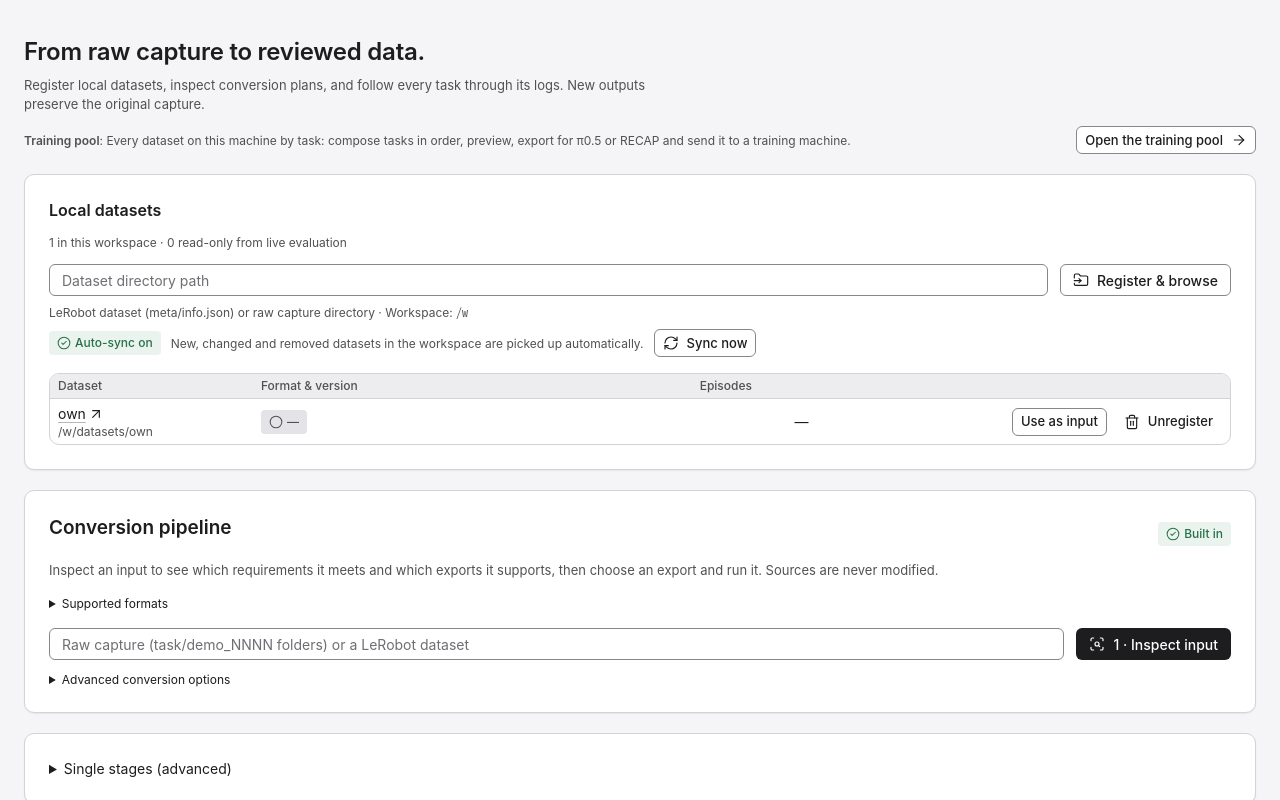
Test: Unregister reports a refused removal › a 409 from the server shows the problem, not silence
Step 1. Click the button "Unregister" → (1168, 422), box [1115,408,1222,436]
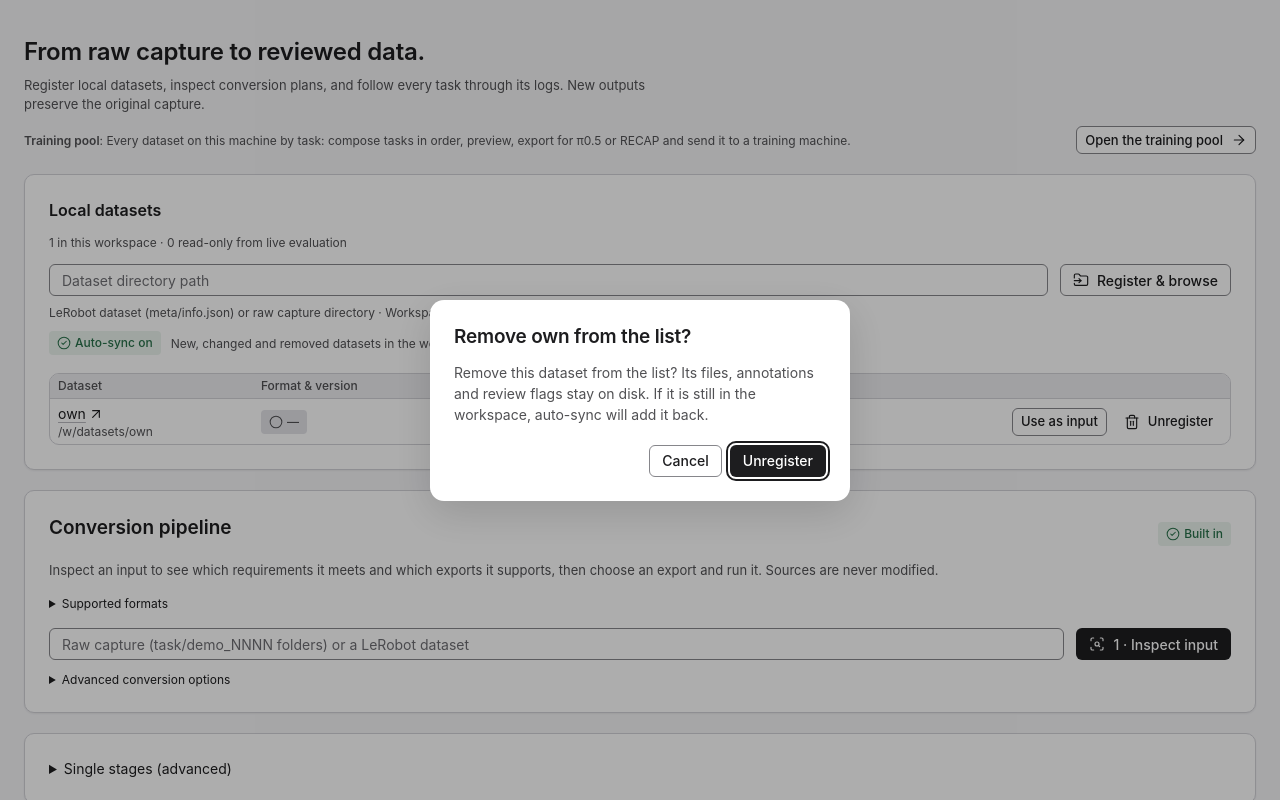
Step 2. Click the button "Unregister" → (778, 460), box [730,444,826,476]
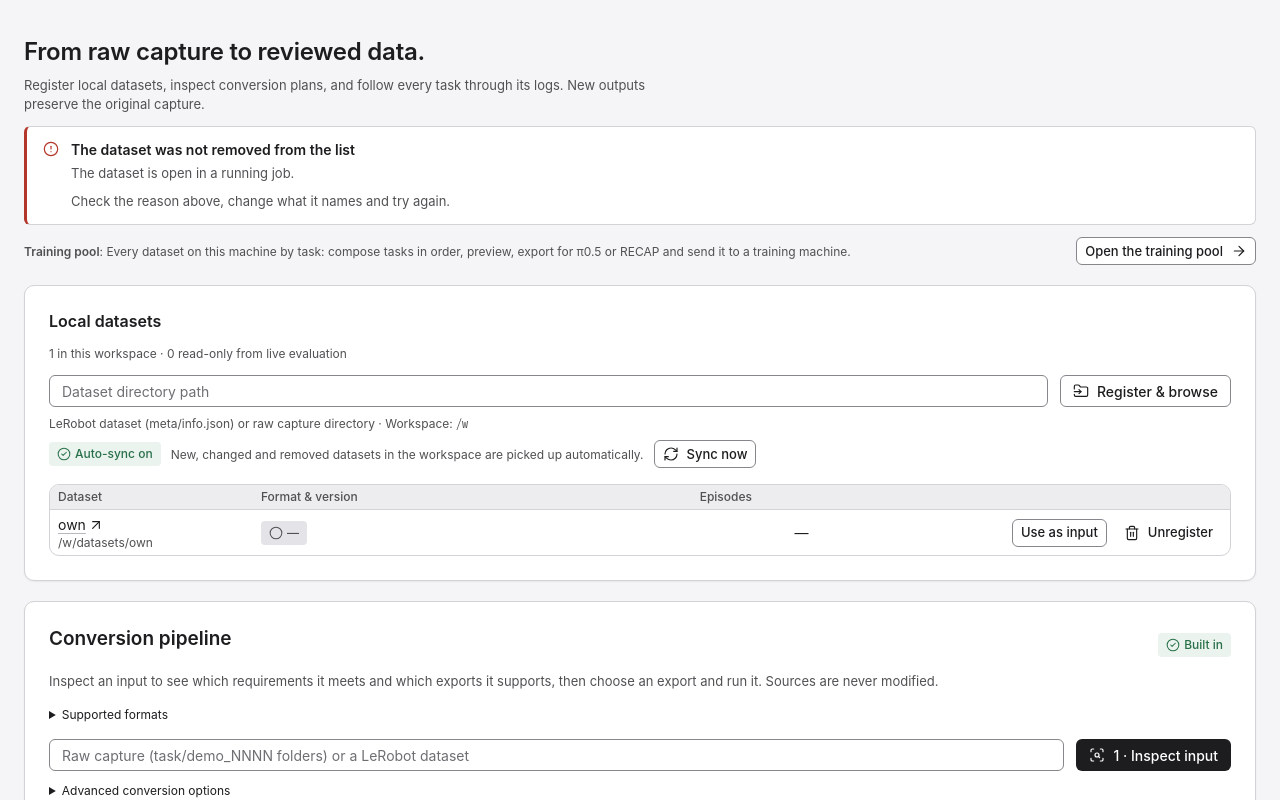
Check: the text "The dataset was not removed from the list" is shown, box [71,141,355,158]
Check: the text "The dataset is open in a running job." is shown, box [71,165,294,181]
